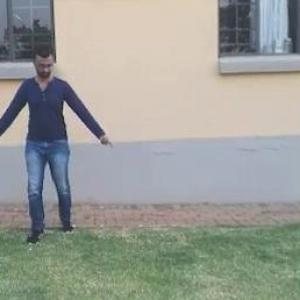land: (0, 36, 108, 255)
